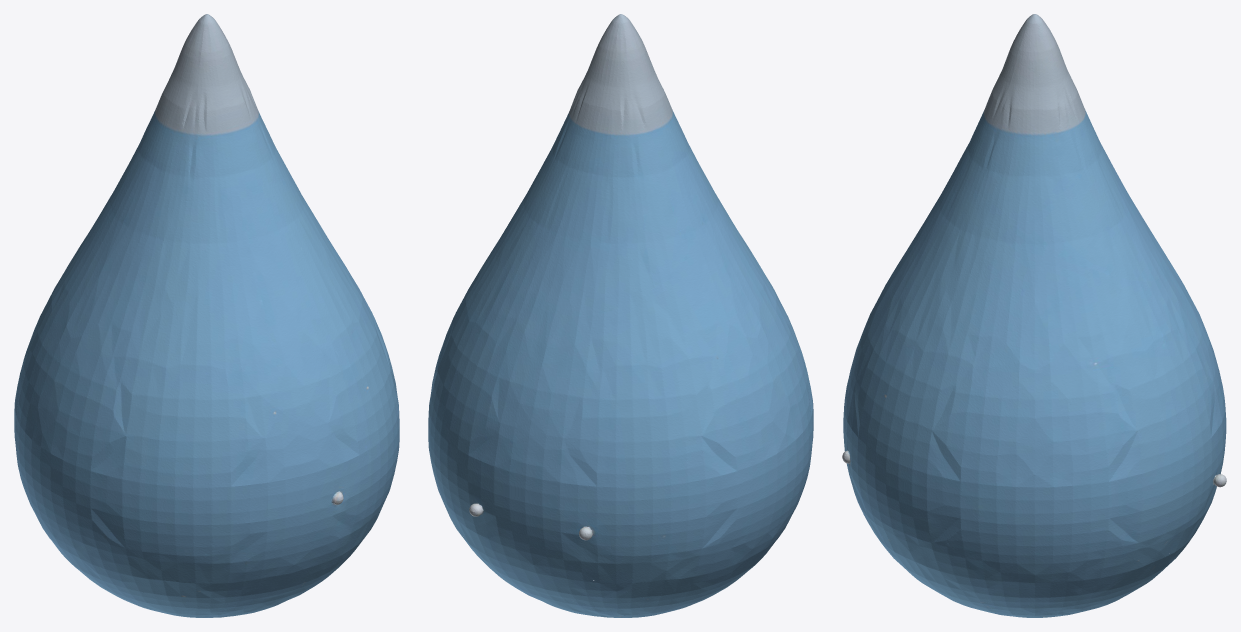
Rendered from landscape.glb.
The picture shows the model from 3 angles, left to right: view 1: azimuth 30°, elevation 25°; view 2: azimuth 150°, elevation 25°; view 3: azimuth 270°, elevation 25°; orthographic projection.
Parts seen in each view (by area): view 1: tripo_node_891e792d-4f0e-4086-92a2-83b844cbf003; view 2: tripo_node_891e792d-4f0e-4086-92a2-83b844cbf003; view 3: tripo_node_891e792d-4f0e-4086-92a2-83b844cbf003.
Part boxes in pixels (bbox=[...]): tripo_node_891e792d-4f0e-4086-92a2-83b844cbf003: bbox=[14, 14, 399, 617]; tripo_node_891e792d-4f0e-4086-92a2-83b844cbf003: bbox=[428, 14, 813, 617]; tripo_node_891e792d-4f0e-4086-92a2-83b844cbf003: bbox=[842, 14, 1226, 617].
Bounding box in the file's own units: 1.19 × 2 × 1.19.
Materials: 1 (1 with a texture image).
